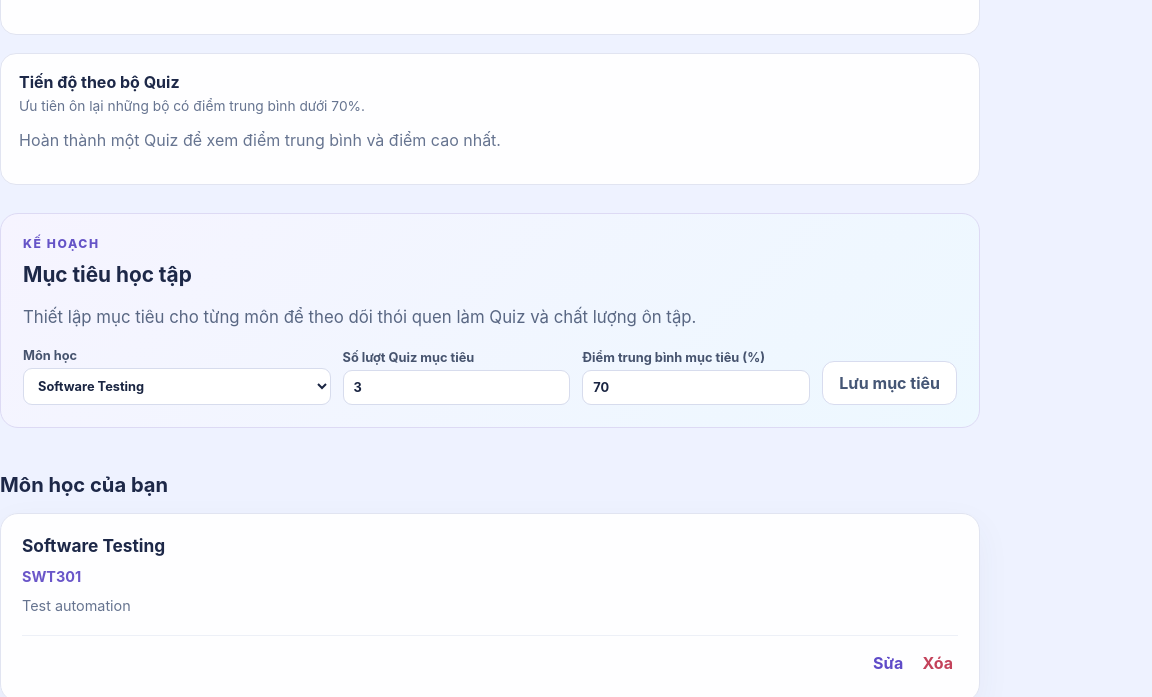
Test: Dashboard course UI › deletes a course only after confirmation
The image size is (1152, 697).
(page scrolled)
Expected: the heading "Software Testing" is shown, [22,535,165,556]
Click the button "Xóa": (938, 663) [917,646,958,680]
(page scrolled)
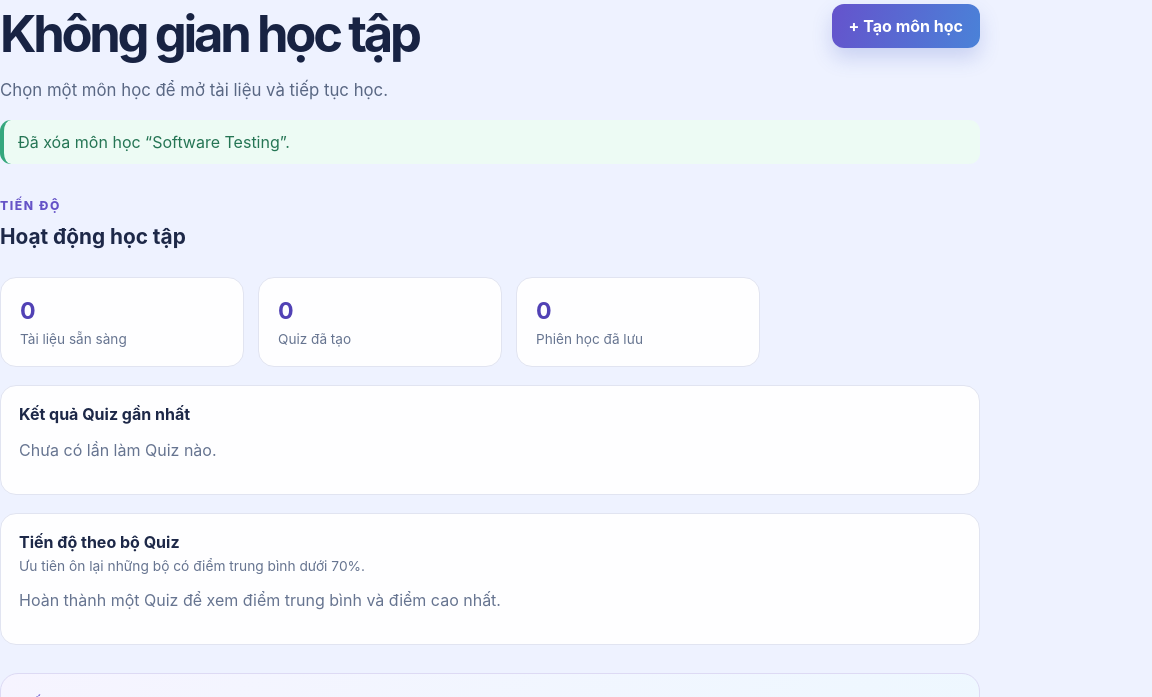
Expected: the message shows "Đã xóa môn học", [18,132,290,152]
